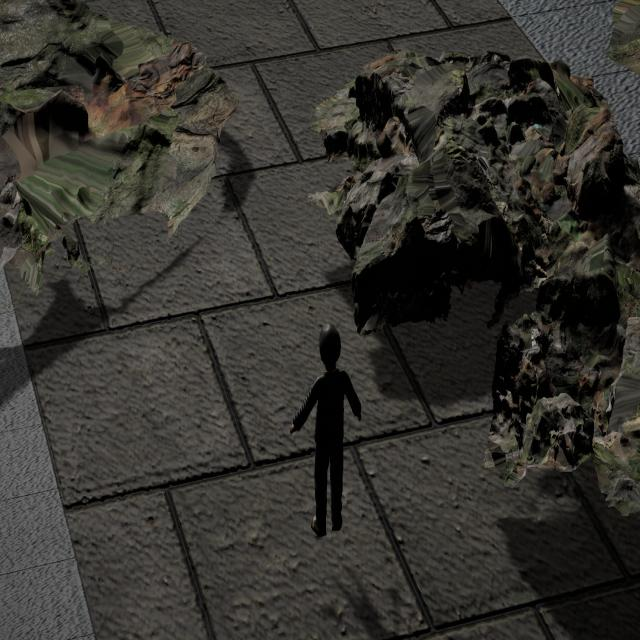Human: (282, 313, 366, 551)
